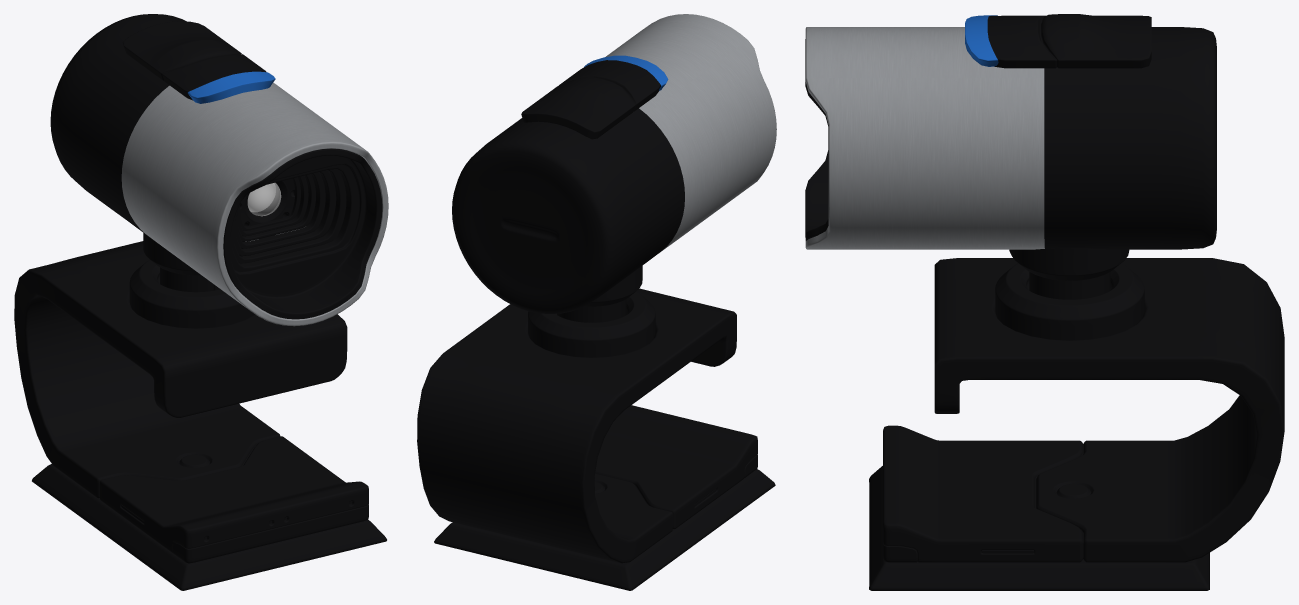
The model's file is webcamera_labels.glb.
3 views of the same model, side by side, from view 1: azimuth 30°, elevation 25°; view 2: azimuth 150°, elevation 25°; view 3: azimuth 270°, elevation 25° (orthographic). The views are drawn at different scales.
Visible parts, largest first — view 1: group1_Bottom_Bottom, polySurface10, polySurface14, InnerPArt, polySurface13, Lens; view 2: group1_Bottom_Bottom, polySurface14, polySurface10, polySurface13; view 3: group1_Bottom_Bottom, polySurface14, polySurface10, InnerPArt, polySurface13.
Boxes of the visible parts, left/top/right/bottom form: group1_Bottom_Bottom: left=14, top=241, right=386, bottom=590; polySurface10: left=121, top=82, right=388, bottom=326; polySurface14: left=50, top=14, right=273, bottom=328; InnerPArt: left=223, top=148, right=382, bottom=319; polySurface13: left=187, top=71, right=275, bottom=103; Lens: left=247, top=183, right=281, bottom=216; group1_Bottom_Bottom: left=417, top=288, right=775, bottom=590; polySurface14: left=452, top=60, right=684, bottom=357; polySurface10: left=605, top=14, right=776, bottom=250; polySurface13: left=584, top=55, right=668, bottom=90; group1_Bottom_Bottom: left=869, top=258, right=1284, bottom=590; polySurface14: left=987, top=14, right=1216, bottom=340; polySurface10: left=805, top=27, right=1044, bottom=249; InnerPArt: left=805, top=39, right=828, bottom=240; polySurface13: left=965, top=15, right=998, bottom=66.
Bounding box in the file's own units: 0.8557 × 1.81 × 1.53.
6 materials, 6 textured.
